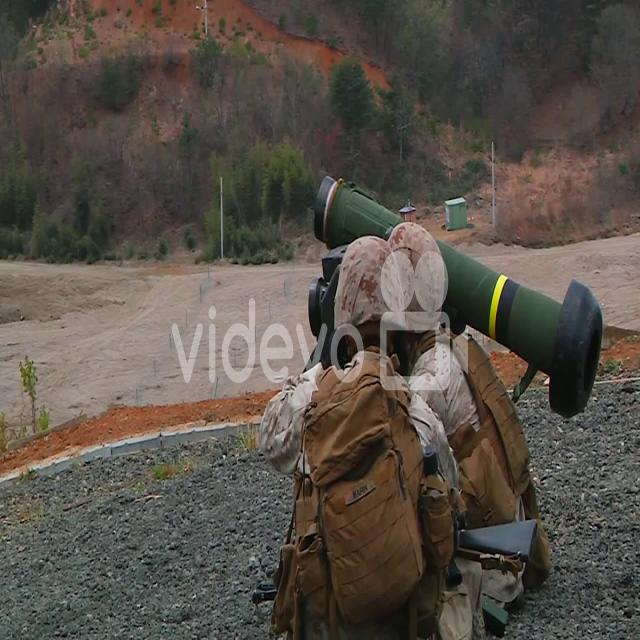bazooka: (311, 167, 612, 428)
